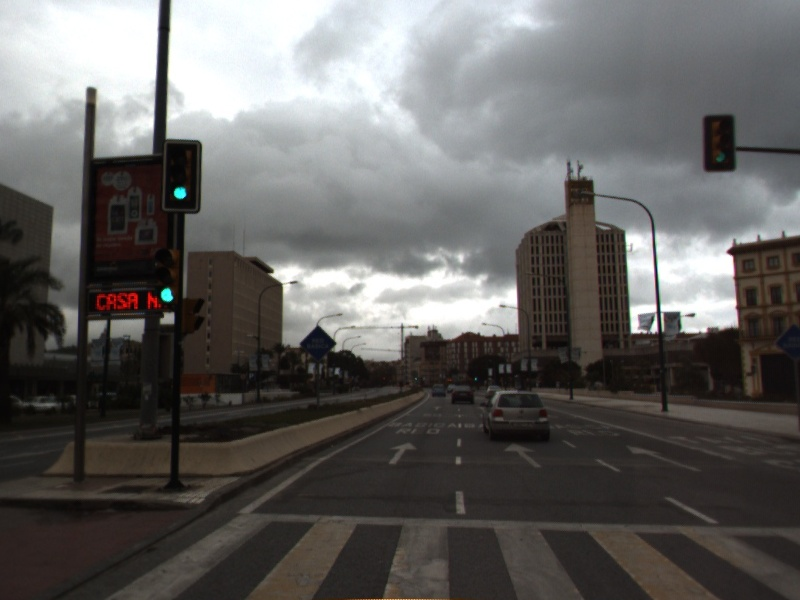STRAIGHT: (623, 443, 704, 474), (502, 440, 543, 470), (386, 440, 420, 467)
